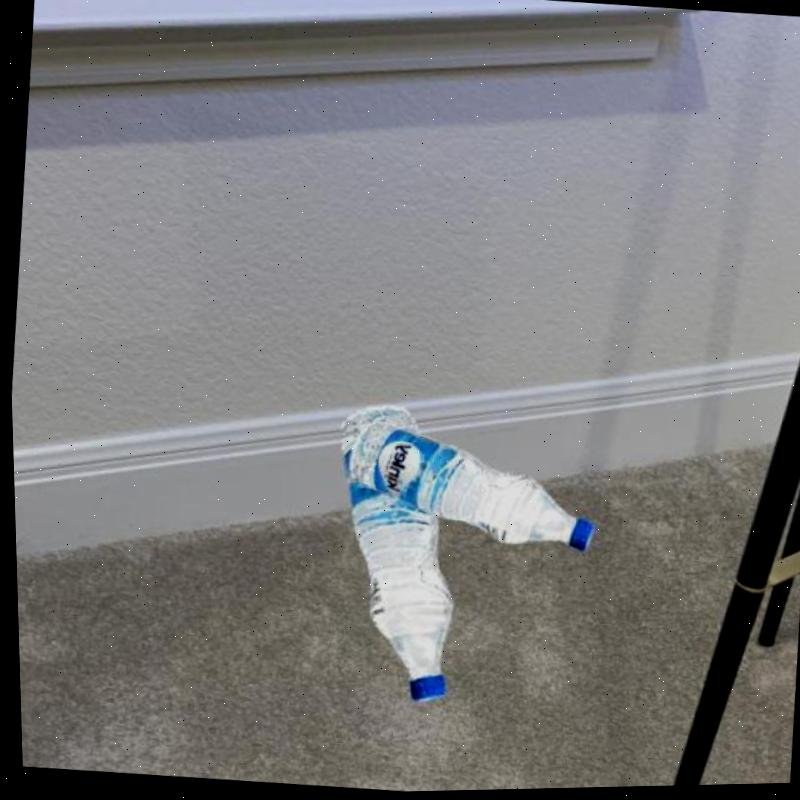botella: (313, 399, 471, 706), (337, 414, 601, 559)
